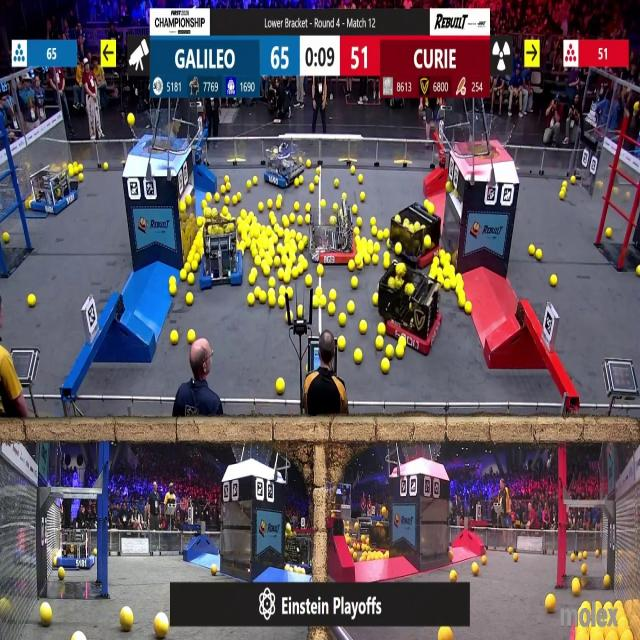ball_airborne: (128, 112, 136, 125)
ball_ground: (157, 615, 170, 639), (119, 610, 132, 632), (40, 605, 52, 628), (440, 627, 453, 640), (545, 594, 554, 612), (572, 580, 580, 597), (354, 349, 362, 364), (277, 379, 285, 394), (382, 359, 390, 373), (171, 332, 179, 345), (340, 313, 348, 326), (187, 329, 195, 342), (386, 346, 394, 359), (395, 346, 403, 359), (269, 293, 277, 306), (339, 338, 346, 352), (328, 288, 336, 300), (306, 275, 314, 287), (327, 304, 335, 316), (450, 569, 458, 581), (376, 338, 384, 350), (278, 295, 286, 307), (394, 243, 402, 255), (359, 321, 366, 334), (29, 293, 36, 306), (282, 216, 290, 227), (458, 295, 466, 306), (276, 243, 284, 254), (348, 303, 355, 315), (351, 277, 358, 289), (187, 273, 194, 285), (551, 275, 558, 287), (471, 563, 478, 575), (464, 303, 471, 315), (317, 266, 324, 278), (249, 273, 256, 285), (302, 262, 309, 274), (180, 202, 187, 214), (348, 262, 356, 272), (296, 306, 302, 319), (185, 293, 192, 304), (379, 323, 386, 334), (286, 288, 293, 299), (319, 296, 326, 307), (264, 267, 271, 278), (253, 287, 260, 298), (289, 253, 296, 264), (251, 246, 258, 257), (248, 293, 254, 305), (60, 567, 66, 579), (604, 574, 610, 586), (278, 269, 284, 281), (180, 271, 187, 281), (259, 292, 266, 302), (312, 296, 319, 306), (269, 278, 276, 288), (291, 269, 298, 279), (297, 254, 304, 264), (355, 254, 362, 264), (3, 233, 9, 244), (371, 293, 377, 304), (275, 255, 281, 266), (535, 249, 541, 260), (297, 266, 303, 277), (356, 264, 364, 272), (456, 287, 464, 295), (579, 565, 586, 574), (253, 256, 260, 265), (279, 230, 286, 239), (171, 285, 177, 295), (371, 254, 377, 264), (212, 564, 218, 574), (258, 203, 264, 213), (528, 246, 534, 256), (352, 205, 358, 215), (605, 229, 611, 239), (297, 242, 303, 252), (296, 214, 302, 224), (276, 200, 282, 210), (445, 280, 451, 290), (375, 243, 381, 253), (384, 230, 390, 240), (282, 255, 288, 265), (329, 215, 335, 225), (384, 260, 390, 270), (335, 178, 341, 188), (297, 176, 303, 186), (290, 230, 296, 240), (259, 248, 265, 258), (273, 235, 279, 245), (186, 196, 192, 206), (378, 230, 384, 240), (450, 266, 456, 276), (445, 268, 451, 278), (433, 256, 439, 266), (199, 216, 205, 226), (293, 203, 299, 212), (356, 217, 362, 226), (268, 256, 274, 265), (233, 197, 239, 206), (271, 216, 277, 225), (191, 263, 196, 273), (371, 226, 376, 236), (364, 254, 369, 264), (184, 264, 189, 274), (452, 279, 457, 289), (447, 253, 452, 263), (441, 256, 446, 266), (170, 277, 177, 284), (369, 217, 375, 225), (570, 176, 576, 184), (316, 287, 322, 295), (279, 286, 285, 294), (269, 201, 275, 209), (295, 234, 301, 242), (314, 176, 320, 184), (214, 193, 220, 201), (456, 273, 462, 281), (294, 184, 300, 192), (224, 183, 230, 191), (384, 252, 390, 260), (274, 224, 280, 232), (596, 601, 602, 609), (306, 215, 311, 224), (78, 174, 83, 183), (306, 204, 311, 213), (242, 210, 247, 219), (386, 240, 391, 249), (447, 183, 452, 192), (367, 245, 372, 254), (268, 229, 273, 238), (636, 267, 640, 278), (354, 227, 360, 234), (220, 185, 226, 192), (350, 168, 356, 175), (331, 204, 337, 211), (248, 212, 254, 219), (296, 567, 302, 574), (284, 565, 290, 572), (560, 190, 565, 198), (244, 185, 249, 193), (316, 168, 321, 176), (482, 556, 487, 564), (207, 192, 212, 200), (358, 175, 363, 183), (514, 554, 519, 562), (307, 161, 312, 169), (224, 197, 229, 205), (78, 165, 83, 173), (186, 254, 191, 262), (353, 554, 358, 562), (360, 191, 364, 200), (290, 214, 294, 223), (308, 186, 312, 195), (570, 555, 575, 562), (223, 176, 228, 183), (252, 177, 257, 184), (584, 553, 589, 560), (277, 194, 282, 201), (321, 200, 325, 208), (104, 164, 108, 172), (343, 194, 347, 202), (304, 237, 309, 243), (507, 546, 512, 552), (596, 551, 600, 558), (203, 201, 207, 208), (385, 553, 389, 560), (362, 238, 366, 245)
goal: (461, 118, 516, 158), (129, 116, 186, 152)
robot_blue: (200, 212, 241, 286), (29, 164, 77, 213), (262, 141, 304, 189), (58, 528, 94, 568), (283, 530, 310, 568), (0, 176, 16, 227)
robot_red: (380, 267, 442, 354), (391, 204, 443, 268), (308, 213, 356, 266)
